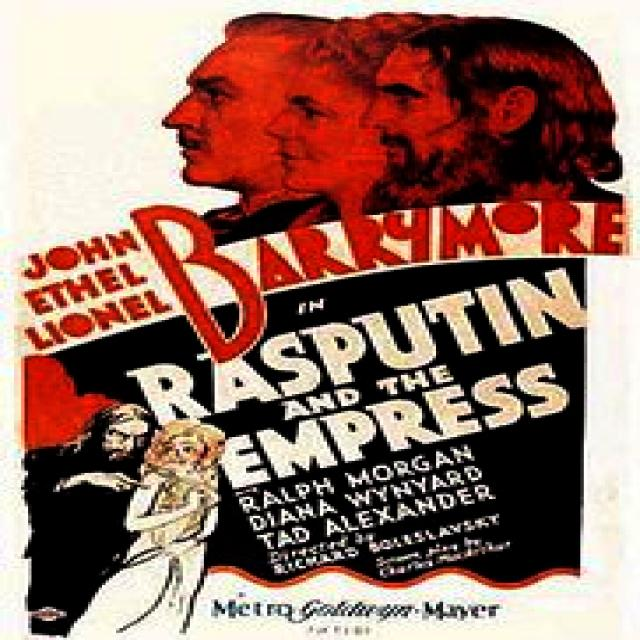movie-judul: (139, 275, 611, 572)
picture: (165, 2, 640, 212), (33, 401, 218, 637)
